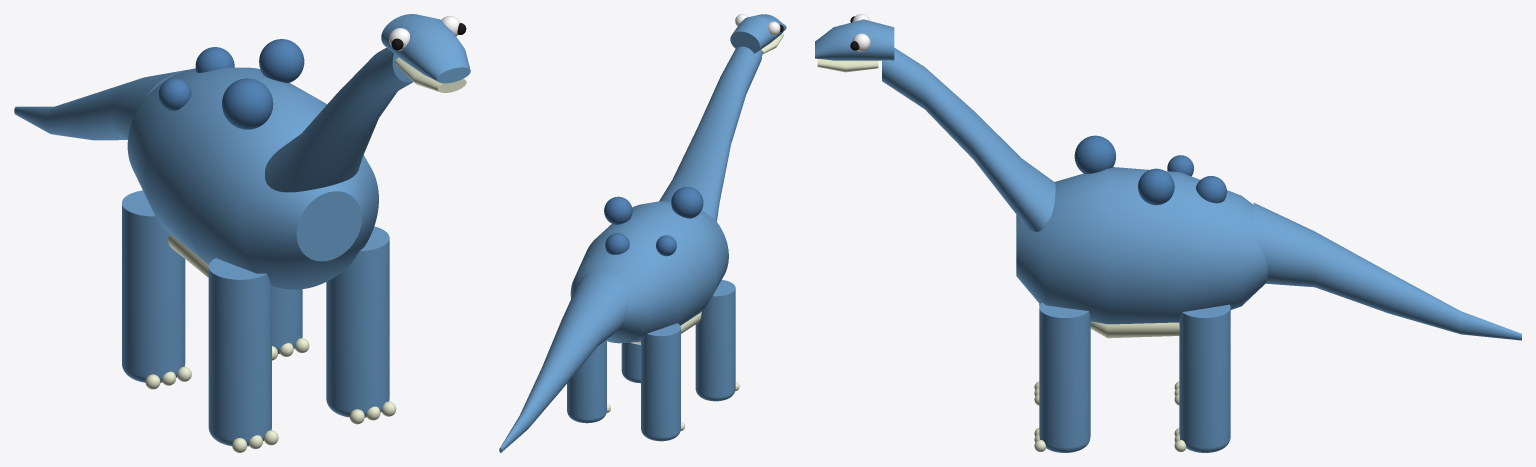
The model's file is sauropod.glb.
The picture shows the model from 3 angles, left to right: view 1: azimuth 30°, elevation 25°; view 2: azimuth 150°, elevation 25°; view 3: azimuth 270°, elevation 25°; orthographic projection. The views are drawn at different scales.
Parts seen in each view (by area): view 1: Body, Leg_0, Leg_2, Leg_1, Neck, Tail, Skull, Spot_0, Leg_3, Spot_1, Spot_3, Jaw (+2 smaller); view 2: Body, Tail, Neck, Leg_2, Leg_0, Leg_3, Skull, Spot_0, Leg_1, Spot_1, Spot_2, Spot_3; view 3: Body, Tail, Neck, Leg_1, Leg_3, Skull, Spot_0, Belly, Spot_1.
Boxes of the visible parts, x1,y1,x2,y2 form: Body: [127, 67, 378, 289]; Leg_0: [208, 258, 271, 446]; Leg_2: [122, 190, 185, 382]; Leg_1: [326, 226, 389, 417]; Neck: [265, 47, 413, 192]; Tail: [14, 69, 188, 140]; Skull: [381, 14, 470, 83]; Spot_0: [222, 78, 273, 129]; Leg_3: [272, 286, 302, 353]; Spot_1: [259, 39, 304, 83]; Spot_3: [158, 78, 191, 110]; Jaw: [395, 57, 466, 92]; Body: [570, 199, 728, 343]; Tail: [499, 271, 628, 452]; Neck: [659, 46, 762, 221]; Leg_2: [641, 323, 680, 441]; Leg_0: [695, 280, 735, 401]; Leg_3: [567, 340, 606, 423]; Skull: [730, 14, 786, 53]; Spot_0: [671, 187, 703, 218]; Leg_1: [621, 342, 640, 383]; Spot_1: [604, 196, 632, 224]; Spot_2: [605, 233, 629, 254]; Spot_3: [656, 235, 676, 256]; Body: [1016, 167, 1267, 324]; Tail: [1253, 203, 1521, 340]; Neck: [882, 47, 1055, 231]; Leg_1: [1039, 302, 1090, 452]; Leg_3: [1179, 304, 1230, 452]; Skull: [815, 19, 894, 60]; Spot_0: [1074, 135, 1115, 173]; Belly: [1090, 321, 1179, 338]; Spot_1: [1138, 168, 1174, 205].
Bounding box in the file's own units: 1.32 × 3.62 × 5.8.
